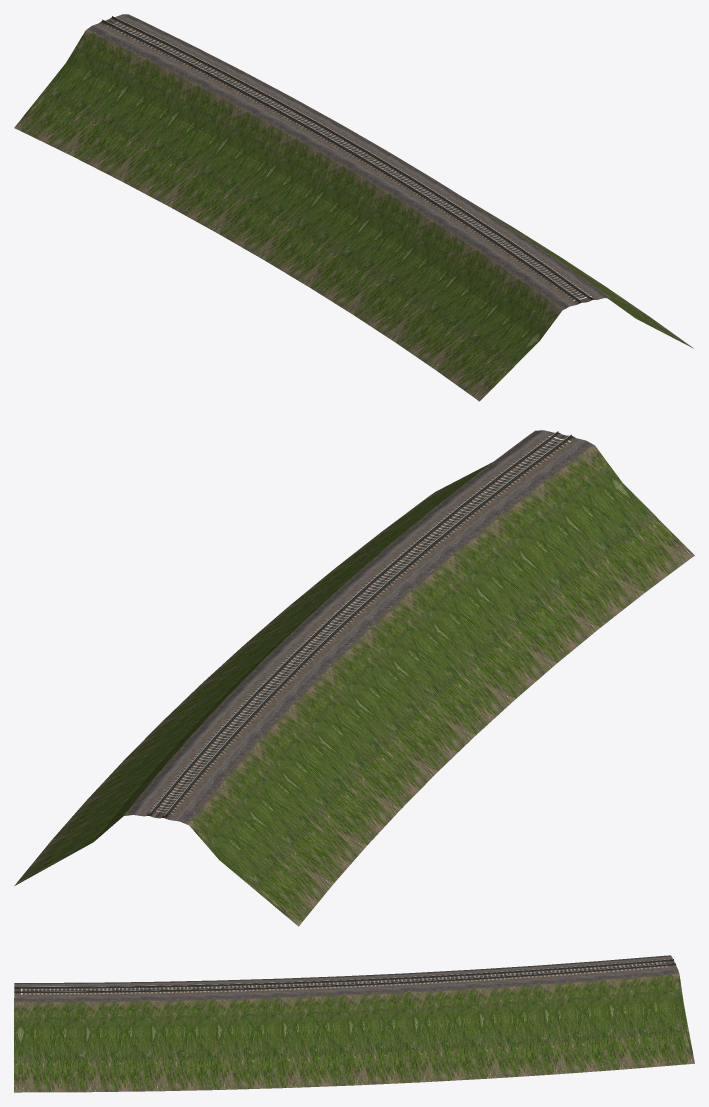
File: tracks_1track500l.gltf
3 renders of one model, top to bottom at view 1: azimuth 30°, elevation 25°; view 2: azimuth 150°, elevation 25°; view 3: azimuth 270°, elevation 25°, orthographic. The views are drawn at different scales.
Parts seen in each view (by area): view 1: tracks_1track500l; view 2: tracks_1track500l; view 3: tracks_1track500l.
Boxes of the visible parts, left/top/right/bottom form: tracks_1track500l: left=14, top=14, right=693, bottom=401; tracks_1track500l: left=14, top=430, right=694, bottom=926; tracks_1track500l: left=14, top=955, right=694, bottom=1092.
Size of the model in its own units: 40.75 by 10.36 by 105.
1 material, 1 textured.
